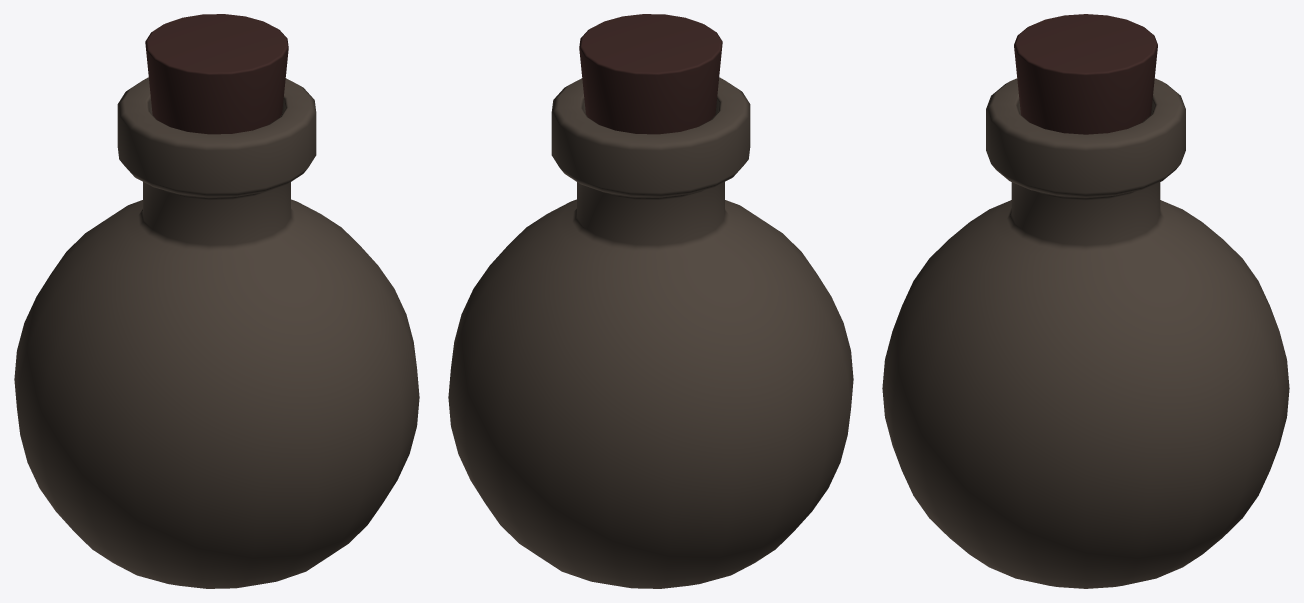
The model's file is CircularGlassJar.fbx.
3 renders of one model, left to right at view 1: azimuth 30°, elevation 25°; view 2: azimuth 150°, elevation 25°; view 3: azimuth 270°, elevation 25°, orthographic.
Visible parts, largest first — view 1: circular_glass_jar; view 2: circular_glass_jar; view 3: circular_glass_jar.
Part boxes in pixels (<box>): circular_glass_jar: <box>14,14,419,588</box>; circular_glass_jar: <box>448,14,853,588</box>; circular_glass_jar: <box>882,14,1289,588</box>.
Size of the model in its own units: 17.28 by 24.2 by 17.28.
